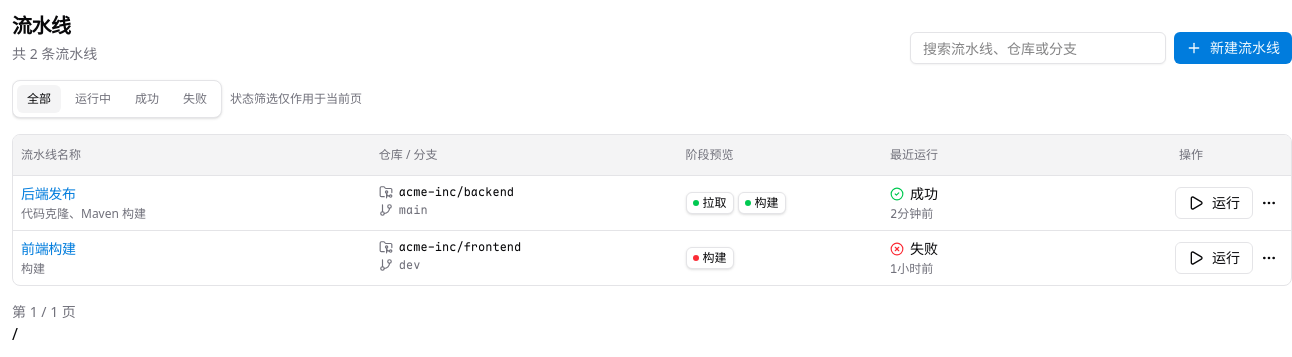
Test: PipelineListPage › TC-UX08-04: row menu exposes edit and delete
This screenshot has width=1292, height=357.
Press the mouse on the button named "更多操作：后端发布" at (1269, 202), box left=1255, top=188, right=1283, bottom=216
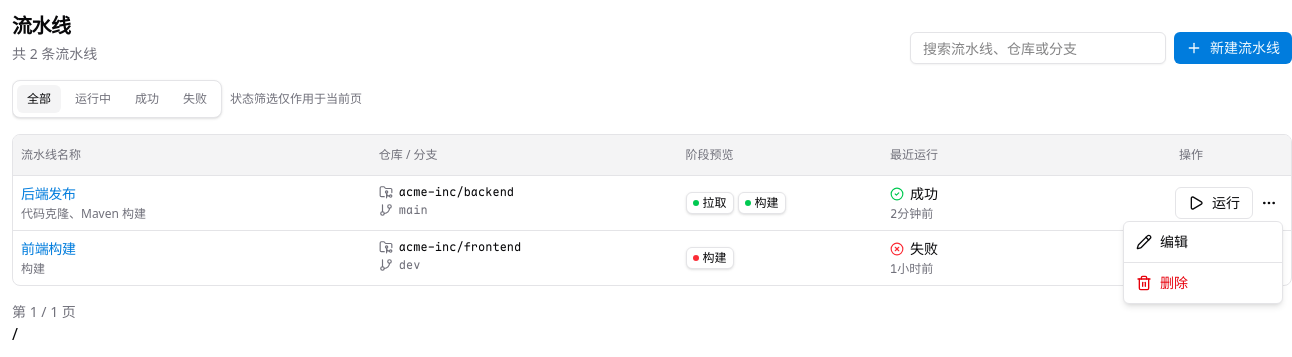
Expected: the menu item "编辑" is shown, left=1136, top=232, right=1188, bottom=251
